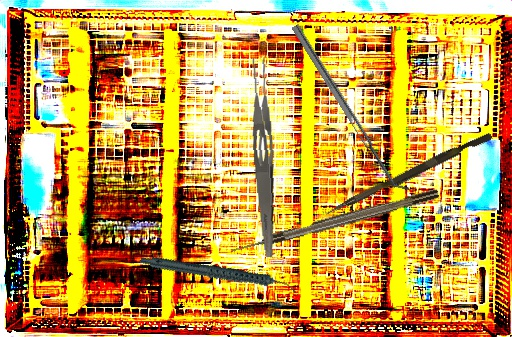Dressing Forceps: (247, 56, 283, 258)
Handpiece: (139, 225, 298, 324)
Hook Surgical: (230, 188, 440, 256)
Pusher: (324, 128, 493, 222)
Spatula Surgical: (291, 20, 410, 197)
